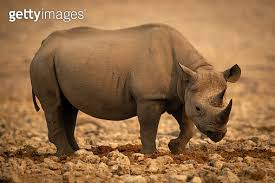Rhinoceros: (28, 20, 246, 157)
